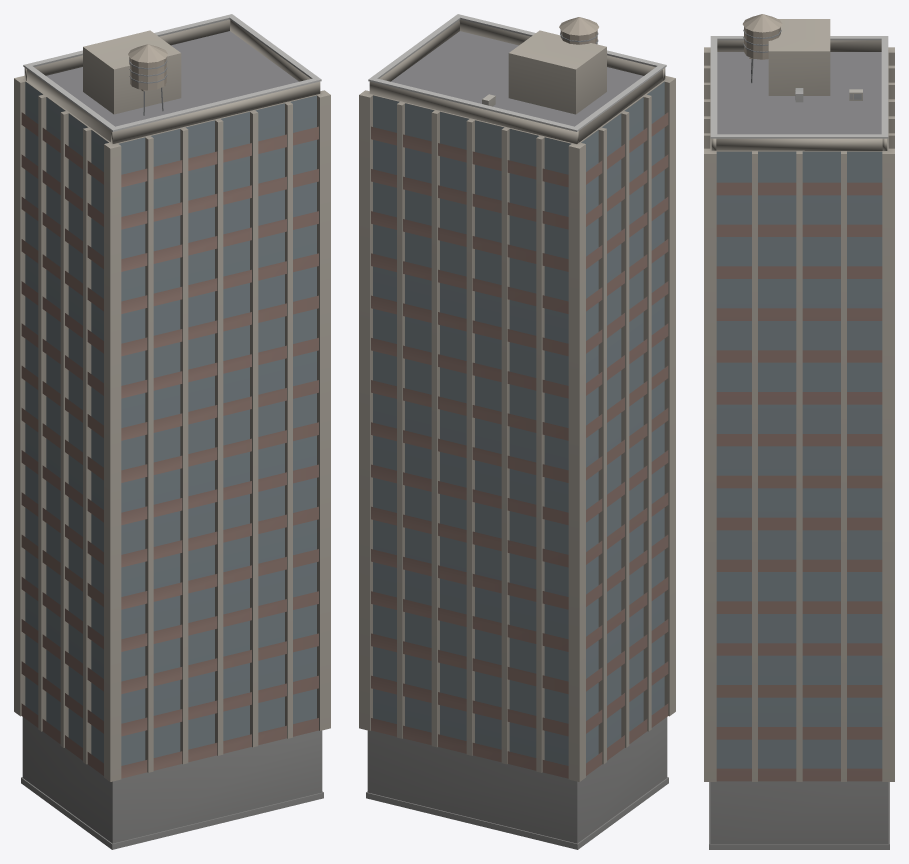
File: slab.lod1.glb
The picture shows the model from 3 angles, left to right: view 1: azimuth 30°, elevation 25°; view 2: azimuth 150°, elevation 25°; view 3: azimuth 270°, elevation 25°; orthographic projection.
Bounding box in the file's own units: 16.4 × 54.72 × 12.4.
